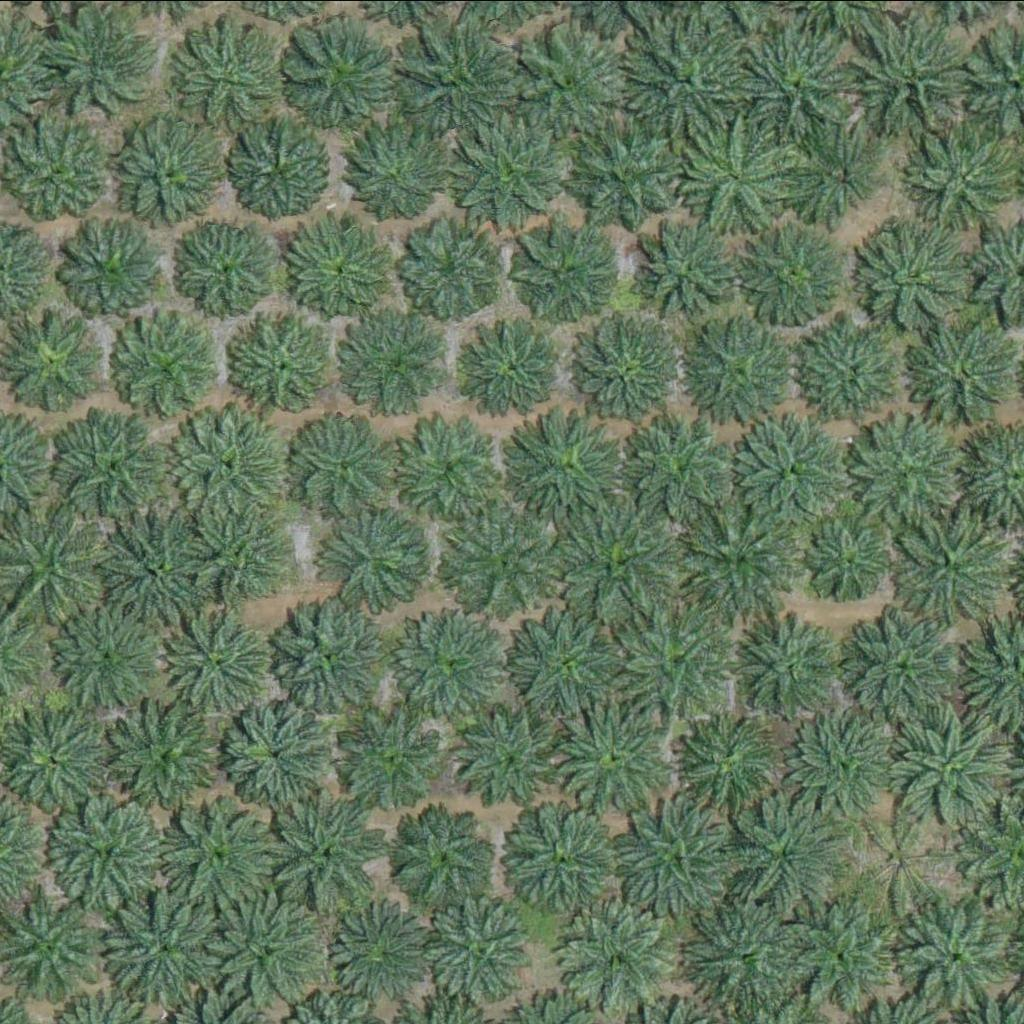Kelapa_Sawit: (172, 406, 298, 531), (627, 18, 753, 143), (624, 410, 750, 535), (681, 496, 807, 621), (848, 24, 973, 149), (106, 117, 220, 230), (394, 408, 508, 521), (316, 504, 430, 617), (507, 415, 621, 528), (893, 507, 1007, 620), (556, 703, 670, 816), (846, 608, 960, 721), (99, 514, 212, 627), (164, 605, 277, 718), (111, 892, 224, 1005), (219, 893, 332, 1006), (162, 799, 275, 912), (453, 113, 566, 226), (451, 507, 564, 620), (456, 694, 569, 807), (502, 801, 615, 914), (277, 795, 390, 908), (322, 899, 435, 1012), (513, 28, 626, 141), (742, 216, 855, 329), (864, 221, 977, 334), (572, 314, 685, 427), (685, 313, 798, 426), (903, 895, 1016, 1008), (786, 899, 899, 1012), (688, 905, 801, 1018), (616, 605, 729, 718), (283, 411, 397, 523), (271, 599, 385, 711), (557, 900, 671, 1012), (617, 800, 731, 912), (794, 705, 908, 817), (169, 16, 282, 128), (232, 306, 345, 418), (112, 309, 225, 421), (50, 411, 163, 523), (114, 699, 227, 811), (49, 794, 162, 906), (227, 696, 340, 808), (397, 26, 510, 138), (341, 312, 454, 424), (344, 704, 457, 816), (405, 608, 518, 720), (507, 604, 620, 716), (431, 891, 544, 1003), (738, 27, 851, 139), (572, 117, 685, 229), (803, 316, 916, 428), (739, 415, 852, 527), (850, 416, 963, 528), (561, 507, 674, 619), (729, 798, 842, 910), (891, 712, 1004, 824), (284, 14, 397, 126), (851, 809, 952, 909), (50, 16, 151, 116), (5, 120, 106, 220), (55, 607, 156, 707), (347, 121, 448, 221), (287, 221, 388, 321), (397, 215, 498, 315), (394, 806, 495, 906), (689, 126, 790, 226), (783, 120, 884, 220), (519, 226, 620, 326), (636, 215, 737, 315), (227, 109, 327, 209), (60, 220, 160, 320), (179, 219, 279, 319), (3, 304, 103, 404), (468, 313, 568, 413), (678, 714, 778, 814), (736, 615, 836, 715), (812, 526, 888, 601), (203, 523, 278, 598)
